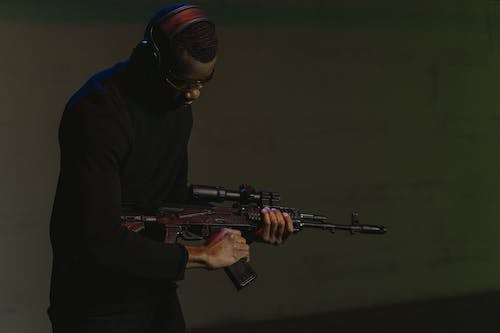gun: (115, 181, 390, 293)
